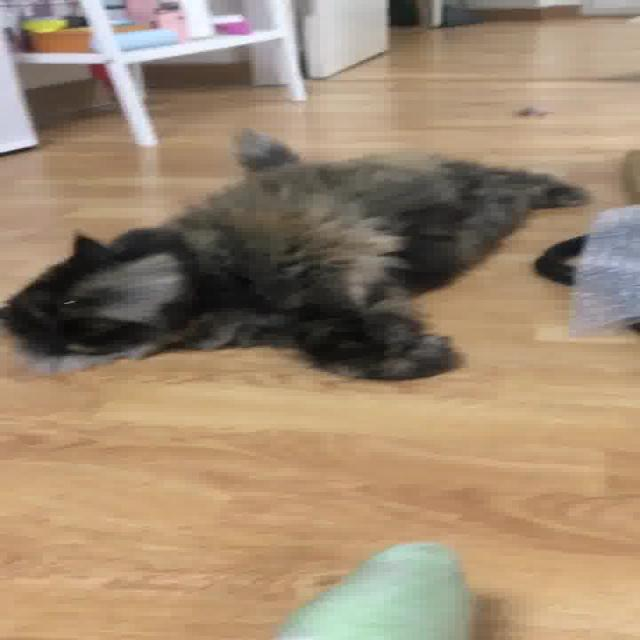cat: (7, 112, 606, 386)
